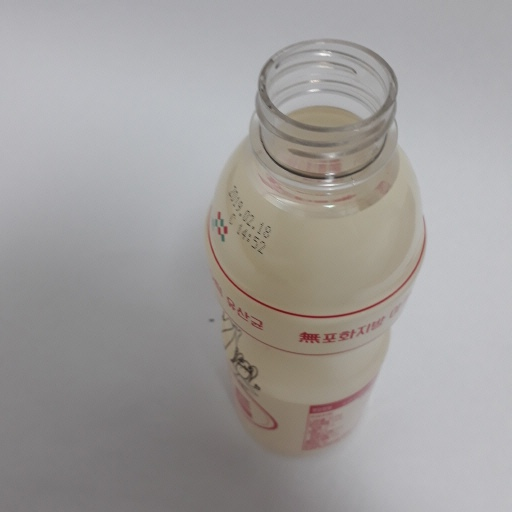Plastic_0: (202, 38, 428, 457)
